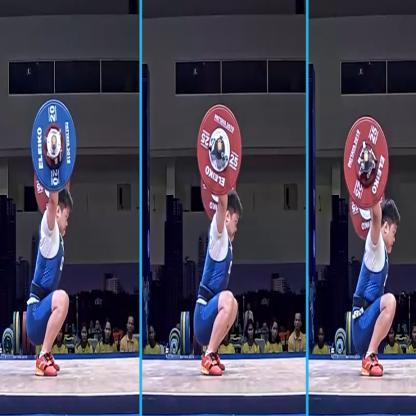barbell: (344, 115, 386, 240), (34, 98, 74, 212), (200, 105, 241, 216)
